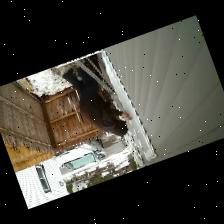person: (63, 67, 131, 135)
